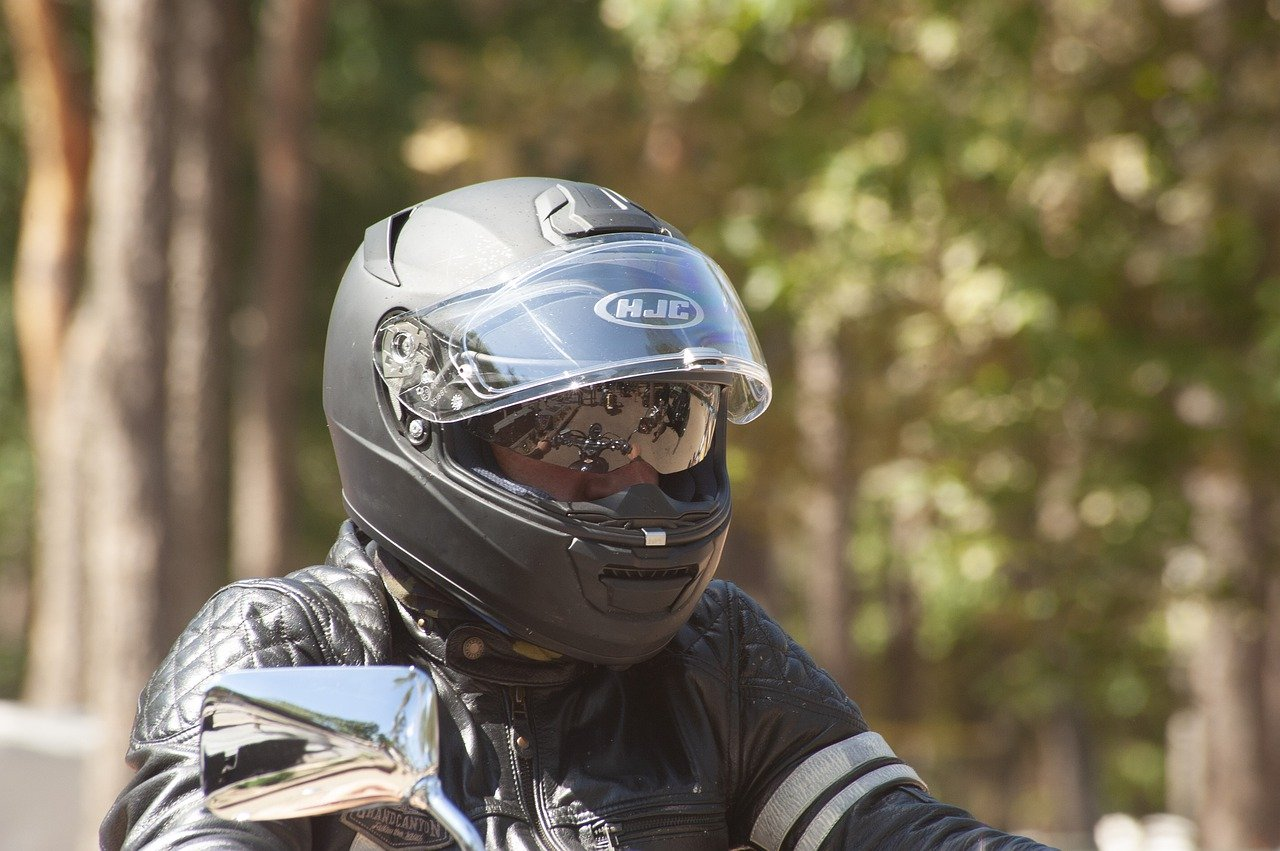helmets: (298, 168, 758, 686)
